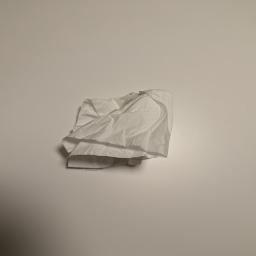Paper: (63, 90, 176, 172)
